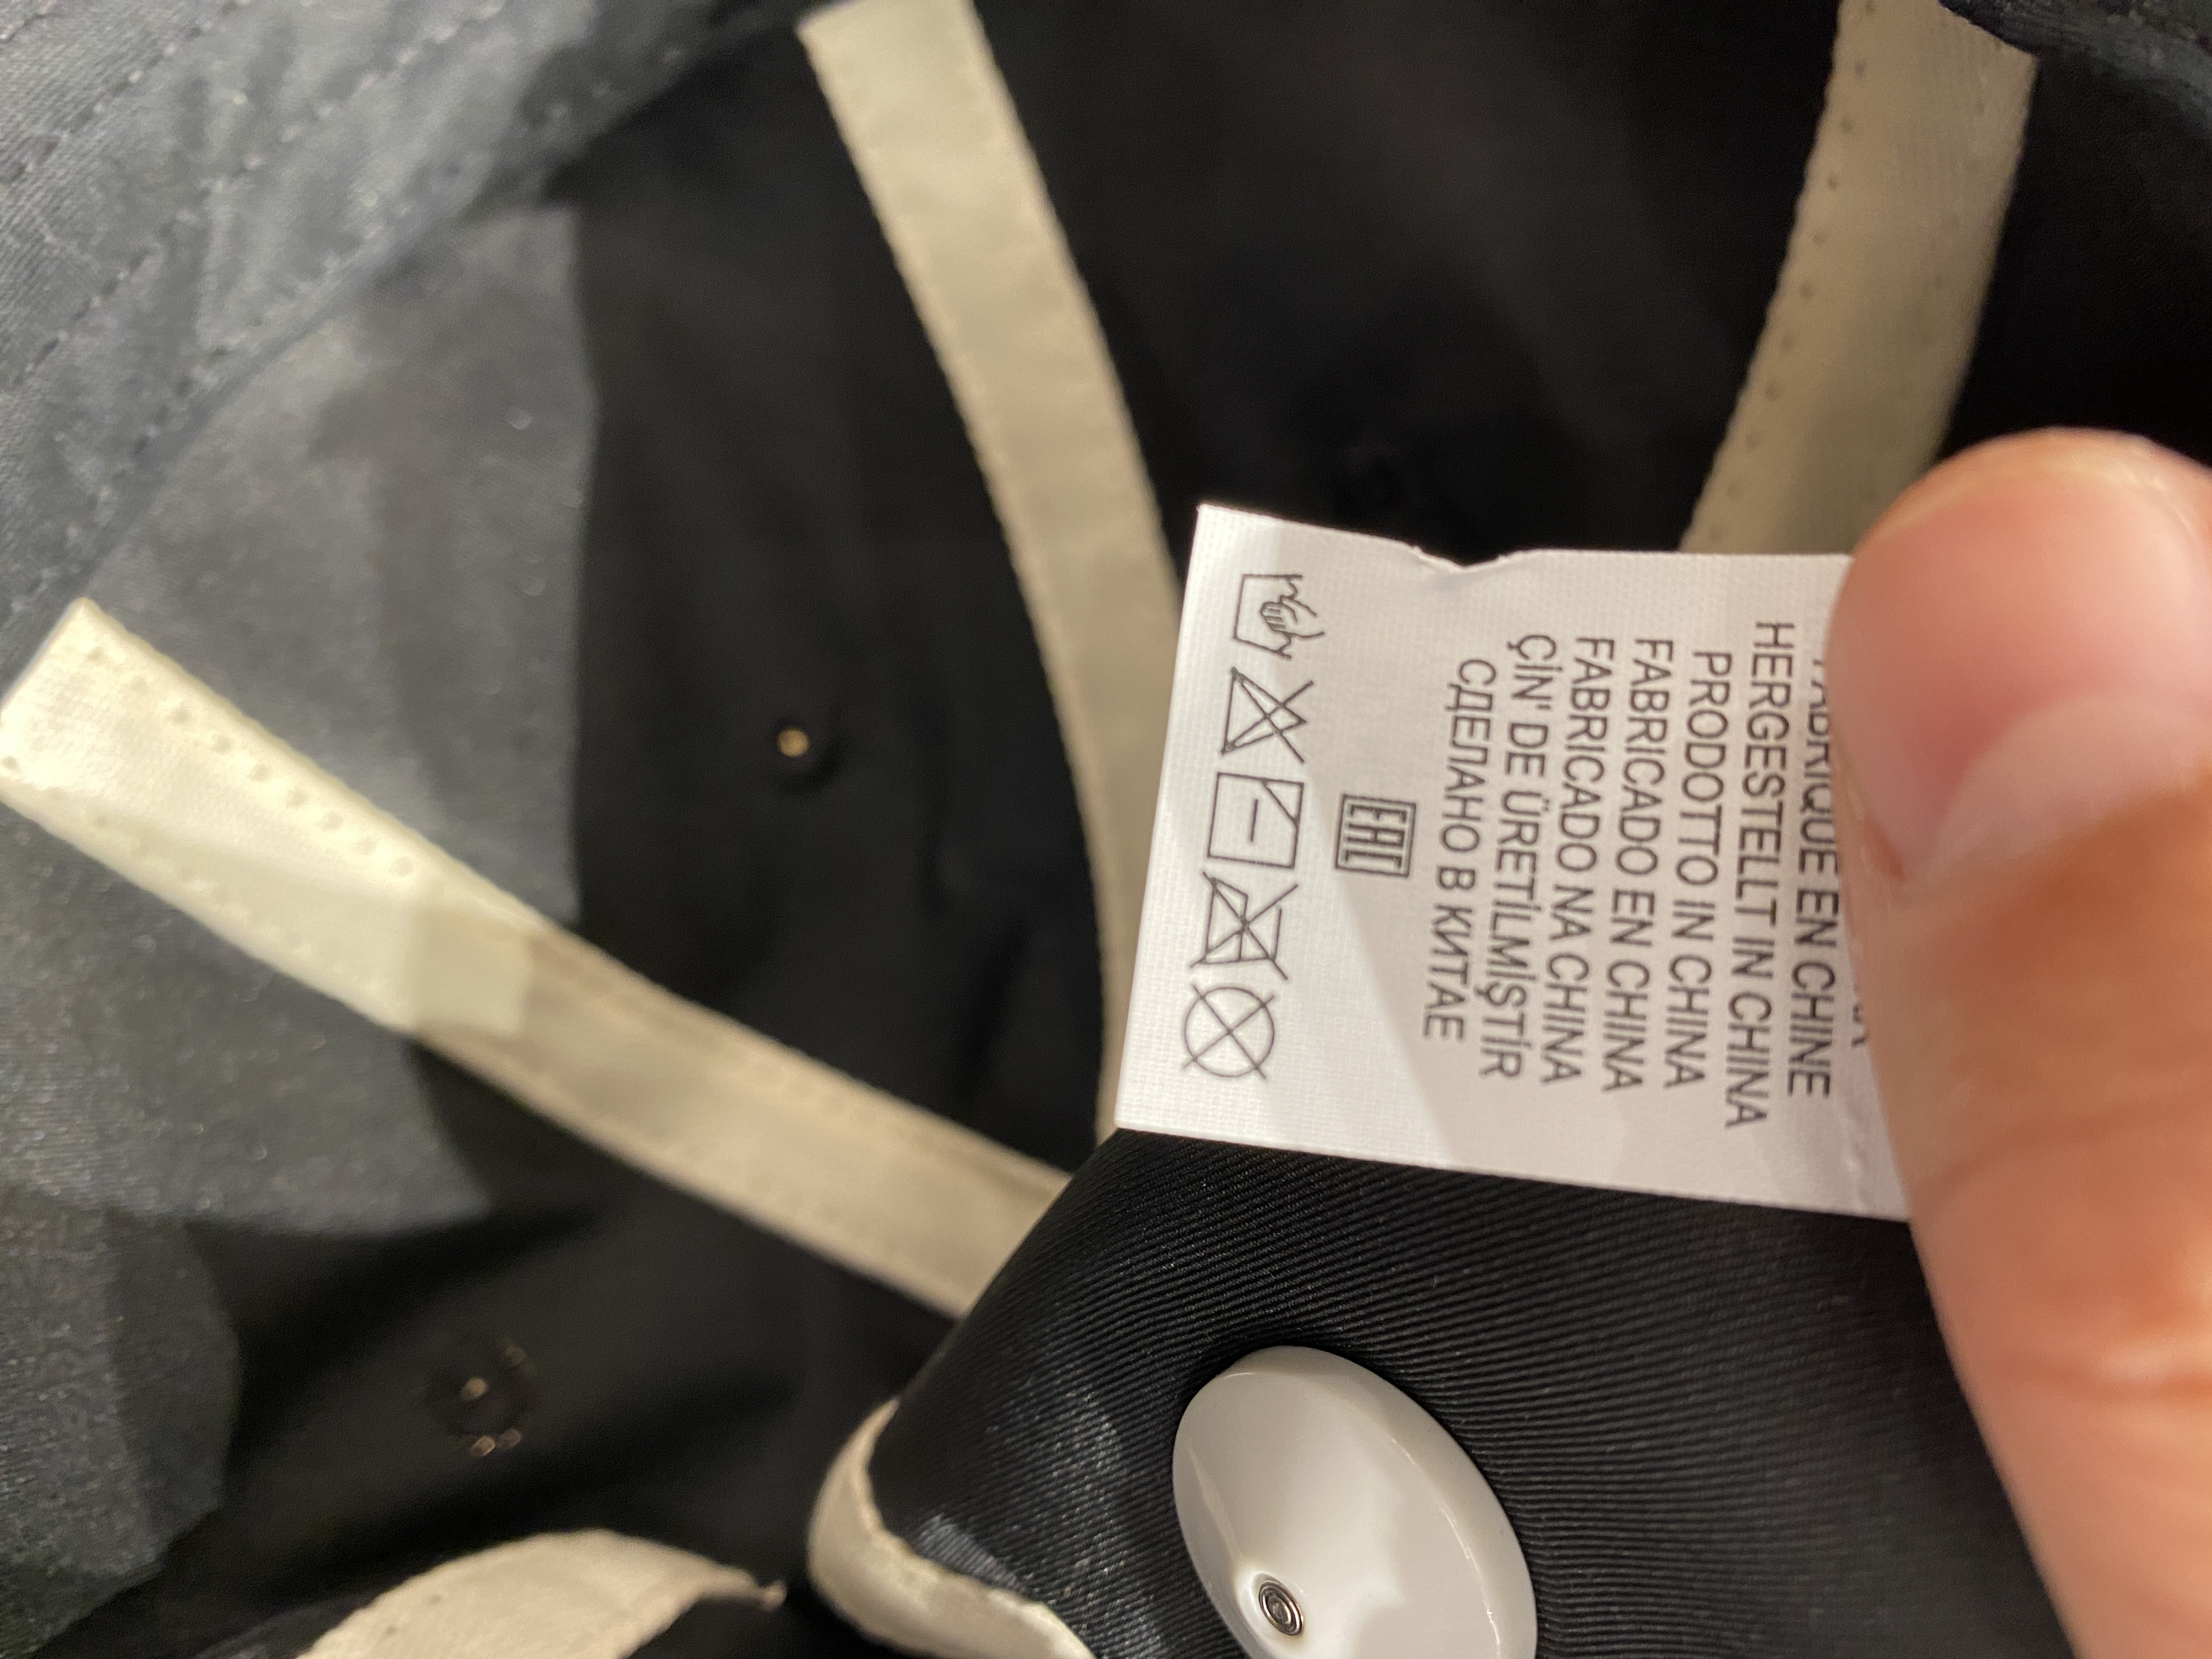icon: (1195, 873, 1305, 979), (1223, 565, 1336, 667), (1214, 662, 1322, 767), (1177, 979, 1285, 1082), (1204, 769, 1305, 866)
